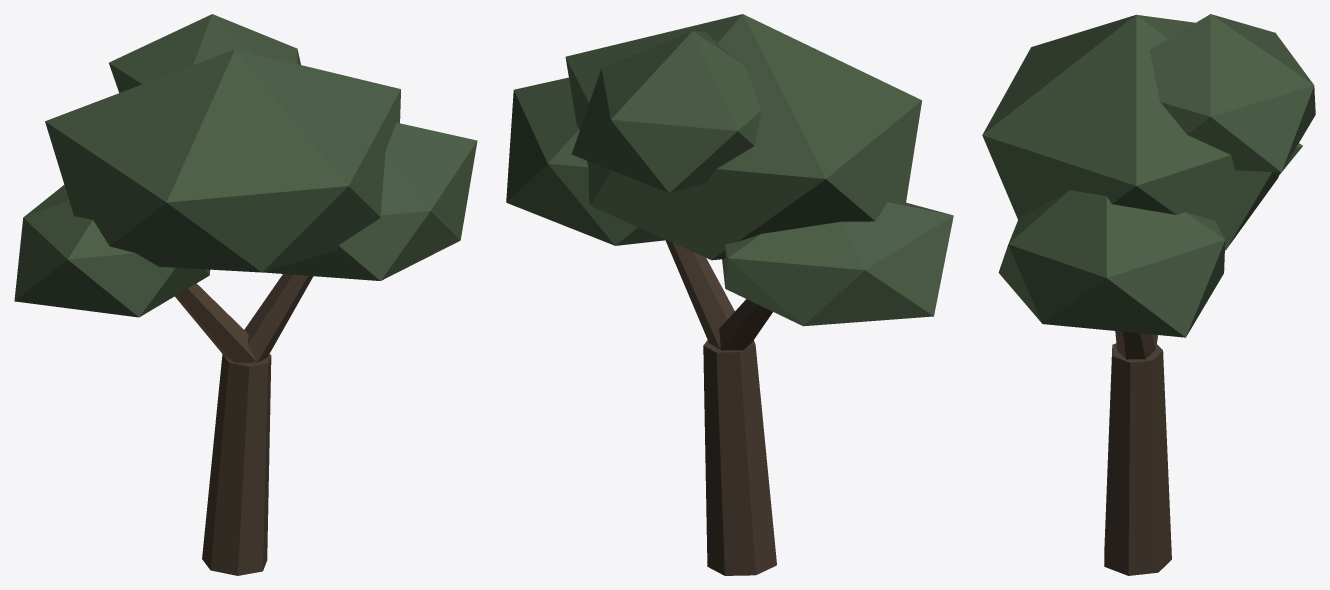
The model's file is tree.glb.
3 views of the same model, side by side, from view 1: azimuth 30°, elevation 25°; view 2: azimuth 150°, elevation 25°; view 3: azimuth 270°, elevation 25° (orthographic). The views are drawn at different scales.
Parts seen in each view (by area): view 1: tree; view 2: tree; view 3: tree.
Boxes of the visible parts, x1,y1,x2,y2 form: tree: (14, 14, 477, 575); tree: (506, 14, 953, 575); tree: (982, 14, 1315, 575).
Bounding box in the file's own units: 3.53 × 4.11 × 2.25.
